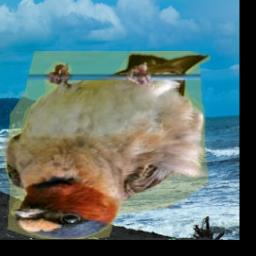Swallow: (0, 52, 211, 240)
